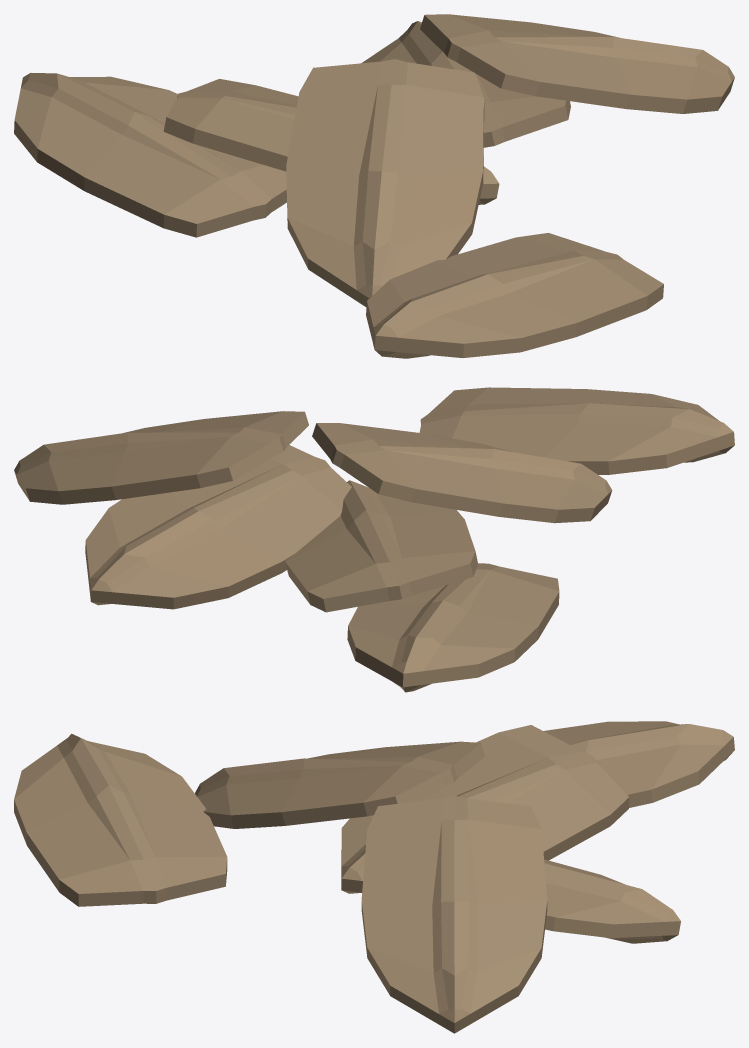
File: retile_scale_item.fbx
3 renders of one model, top to bottom at view 1: azimuth 30°, elevation 25°; view 2: azimuth 150°, elevation 25°; view 3: azimuth 270°, elevation 25°, orthographic. The views are drawn at different scales.
Parts seen in each view (by area): view 1: scale6; view 2: scale6; view 3: scale6.
Boxes of the visible parts, bbox=[...] form: scale6: bbox=[14, 14, 734, 358]; scale6: bbox=[14, 387, 734, 692]; scale6: bbox=[14, 721, 734, 1033].
Size of the model in its own units: 0.5071 by 0.0958 by 0.5455.
